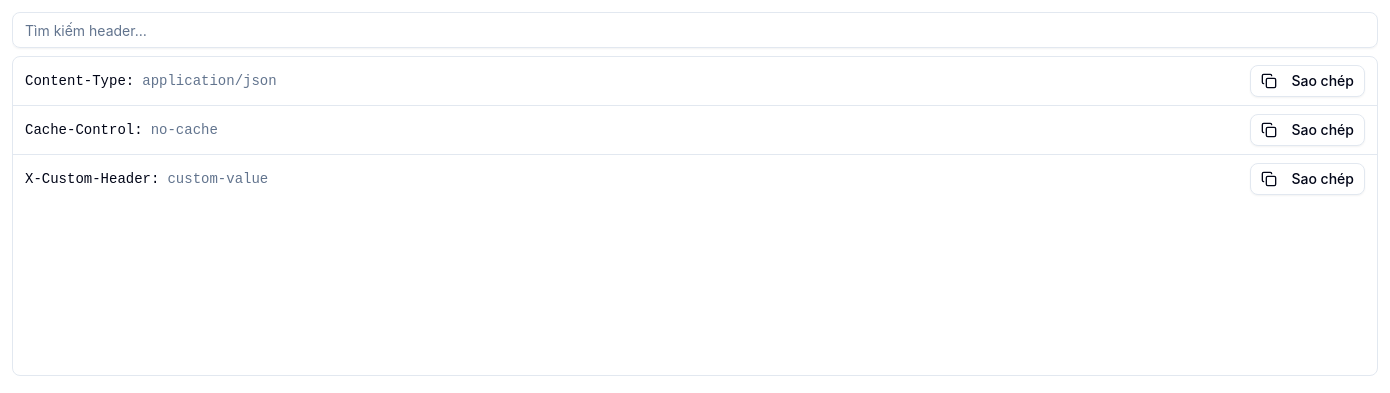
Test: HeaderList › narrows the list as the user types in the search box
The width and height of the screenshot is (1390, 393).
In the field with placeholder "Tìm kiếm header…": (695, 30) [12,12,1378,48], type "cache"
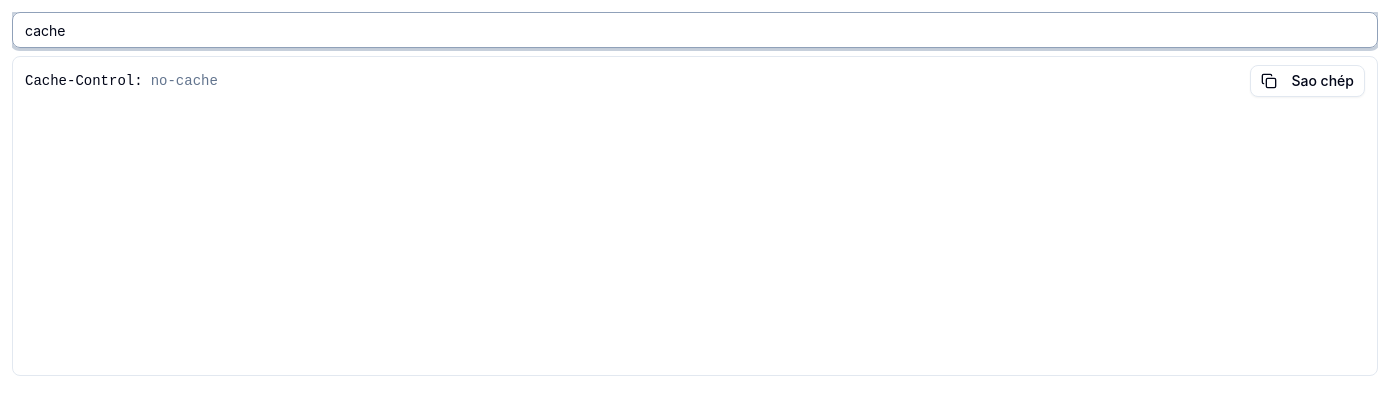
Expected: the text "Cache-Control:" is shown, [25,71,143,91]
Expected: the text "Content-Type:" is gone
Expected: the text "X-Custom-Header:" is gone
